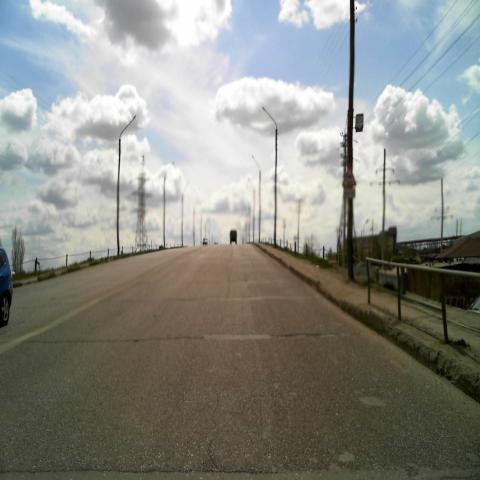1_15: (342, 163, 356, 186)
